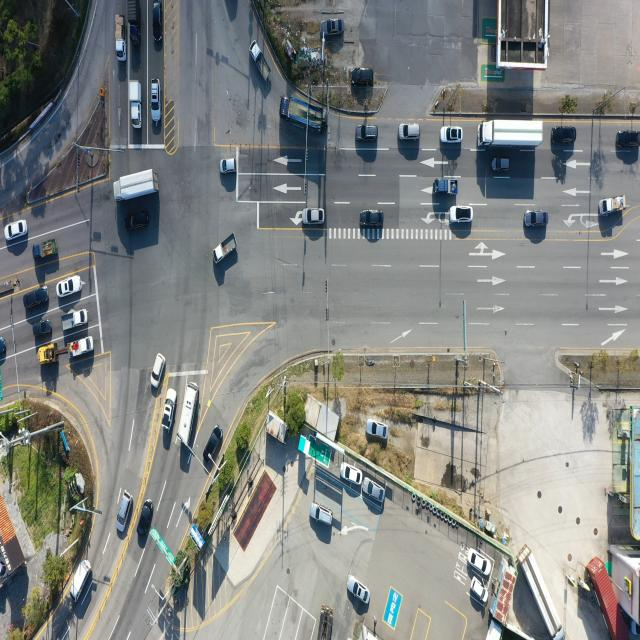car: (115, 491, 132, 534), (348, 574, 370, 604), (615, 128, 640, 154), (138, 499, 154, 538), (164, 388, 178, 432), (150, 0, 162, 48), (58, 275, 82, 298), (364, 480, 386, 505), (24, 286, 49, 308), (469, 550, 490, 576), (150, 352, 165, 388), (310, 504, 332, 528), (469, 577, 488, 604), (552, 127, 578, 145), (4, 219, 26, 240), (342, 462, 363, 484), (350, 68, 374, 87), (365, 419, 387, 439), (128, 212, 150, 232), (320, 19, 344, 37), (32, 318, 53, 338), (150, 82, 160, 124), (303, 207, 325, 226), (356, 124, 378, 143), (450, 206, 472, 224), (525, 210, 548, 227), (360, 210, 383, 227), (442, 127, 464, 144), (398, 124, 420, 141), (219, 160, 236, 176), (492, 159, 510, 173), (0, 339, 7, 359)
medium_truck: (522, 546, 566, 638), (279, 95, 326, 136), (477, 120, 542, 149), (115, 172, 158, 205), (316, 604, 334, 640)
small_bus: (175, 382, 198, 448)
small_truck: (70, 557, 92, 600), (252, 43, 274, 85), (204, 427, 223, 466), (213, 232, 236, 263), (130, 78, 144, 128), (62, 308, 88, 332), (31, 238, 57, 261), (600, 196, 628, 217), (70, 336, 95, 359), (127, 0, 139, 45), (114, 14, 125, 62), (434, 178, 460, 196)
